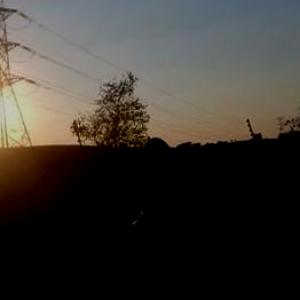follow: (124, 134, 199, 299)
